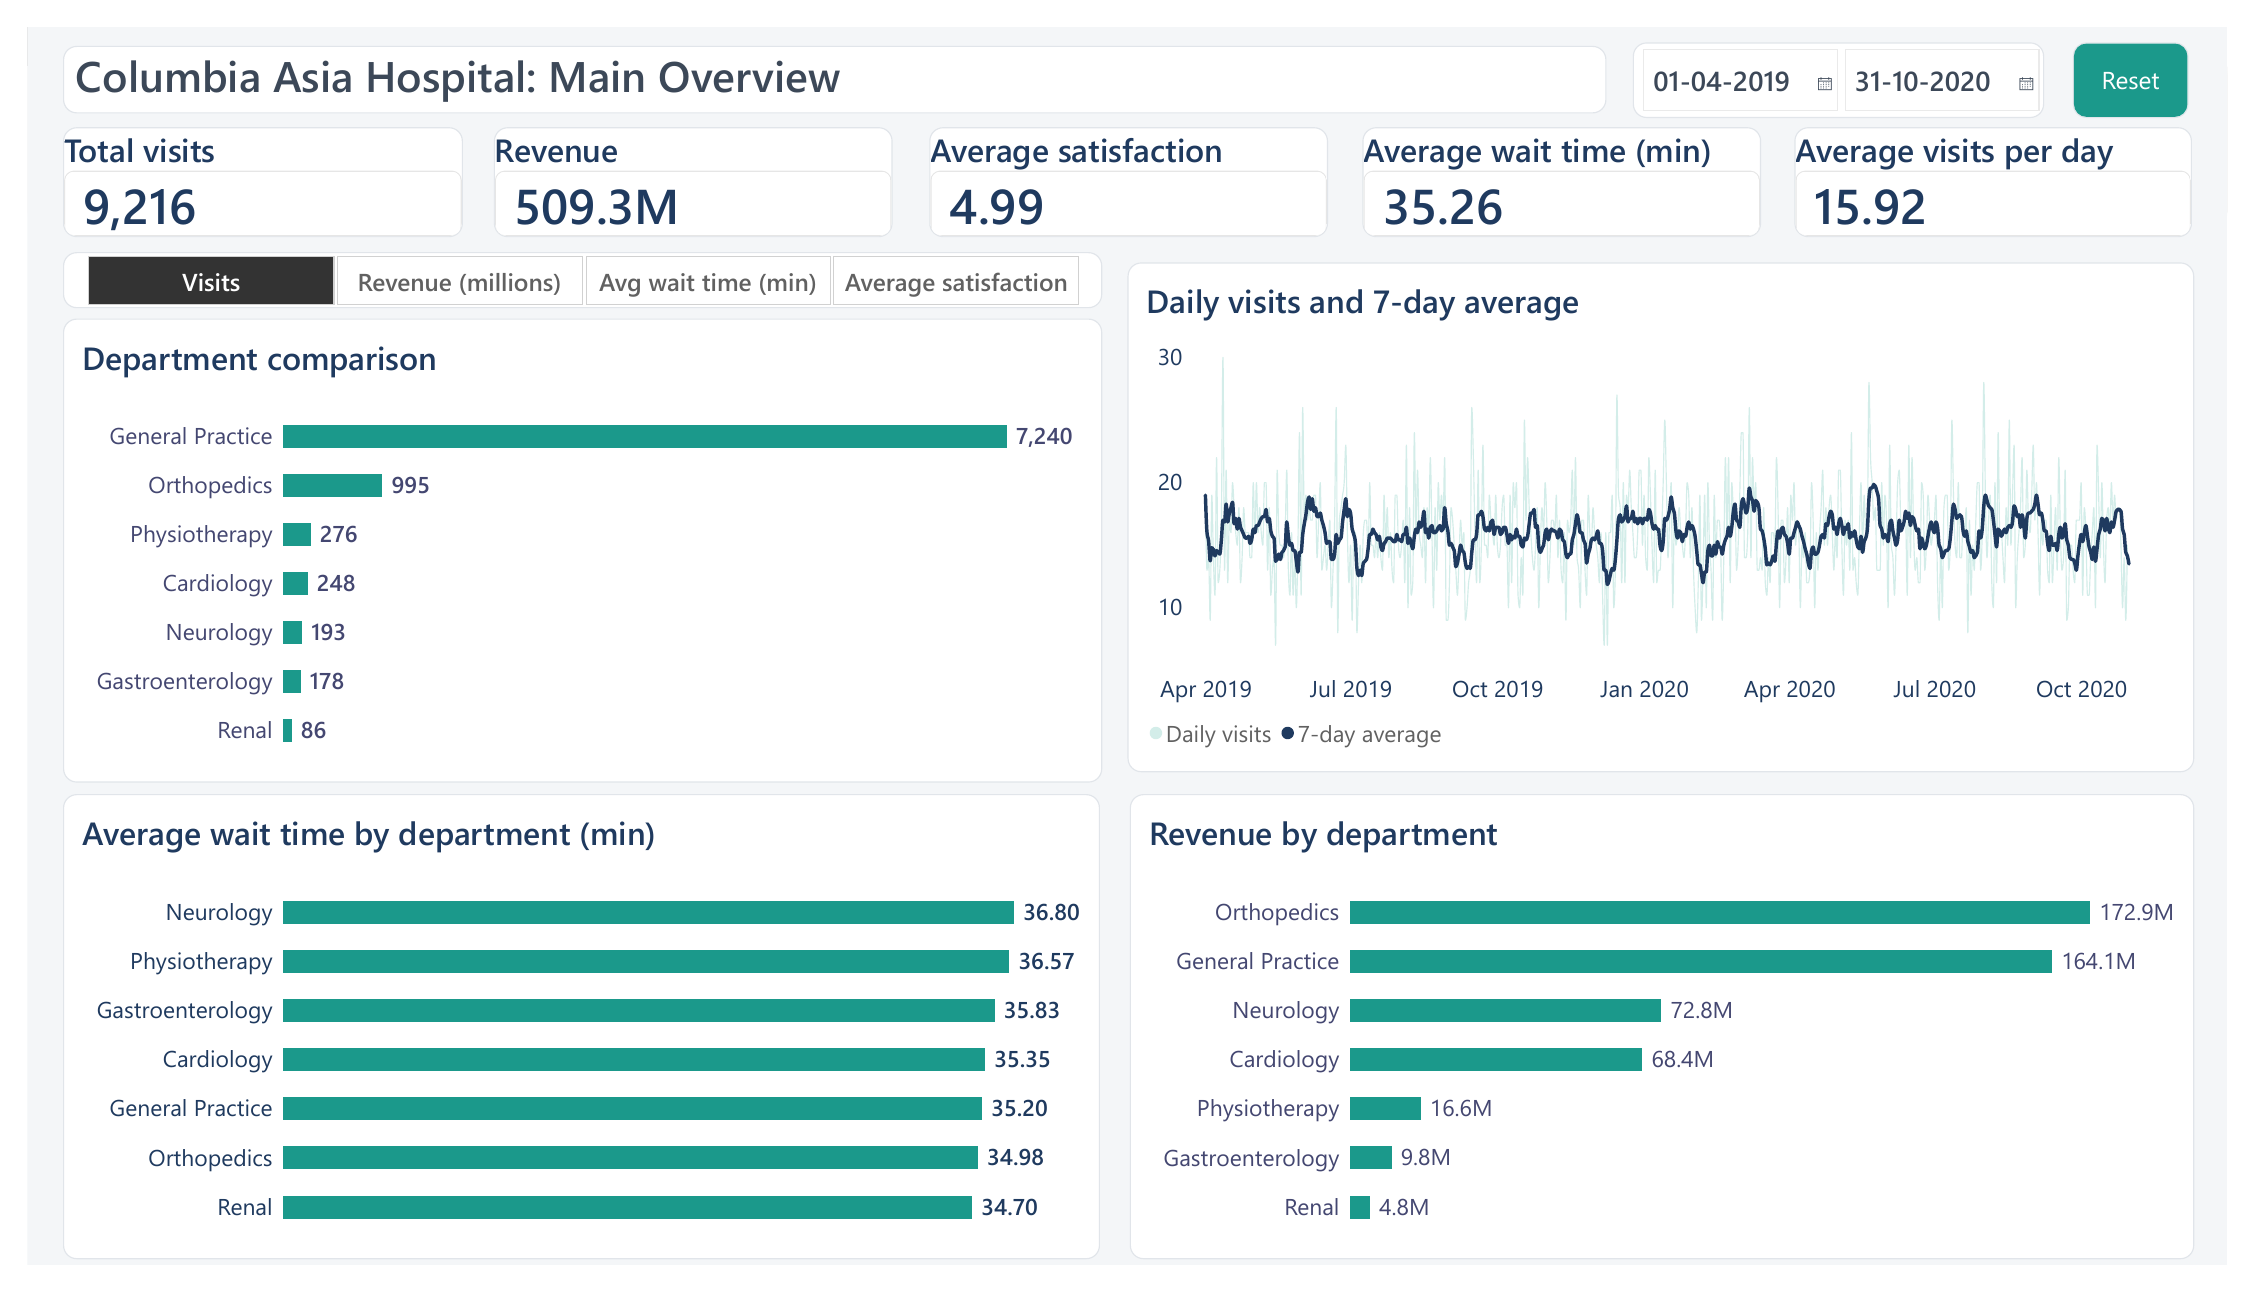

The dashboard page shown, as its layout file describes it:
{"tool":"powerbi","page":{"name":"Main","canvas":[1920,1080],"ordinal":0},"visuals":[{"type":"textbox","box":[31.5,15.7,1346.2,59.6],"z":0},{"type":"slicer","title":" Select dates","fields":{"Values":["date_table.Date"]},"box":[1400.7,13.5,359.7,65.2],"z":1000},{"type":"cardVisual","title":"Total visits","fields":{"Data":["hospital_data.total_visits"]},"box":[31.5,86.6,348.5,96.7],"z":2000},{"type":"cardVisual","title":"Revenue","fields":{"Data":["hospital_data.total_revenue"]},"box":[406.9,86.6,348.5,96.7],"z":3000},{"type":"cardVisual","title":"Average satisfaction","fields":{"Data":["hospital_data.avg_satisfaction"]},"box":[786.9,86.6,348.5,96],"z":4000},{"type":"cardVisual","title":"Average wait time (min)","fields":{"Data":["hospital_data.avg_wait_time"]},"box":[1164.6,86.6,348.5,96],"z":5000},{"type":"cardVisual","title":"Average visits per day","fields":{"Data":["hospital_data.avg_daily_visits"]},"box":[1542.3,86.6,346.2,96],"z":6000},{"type":"actionButton","box":[1785.1,13.5,101.2,65.2],"z":7000},{"type":"clusteredBarChart","title":"Department comparison","fields":{"Category":["hospital_data.department_referral"],"Y":["hospital_data.total_visits"]},"box":[31.5,254.1,906,405],"z":8000},{"type":"lineChart","title":"Daily visits and 7-day average","fields":{"Category":["date_table.Date"],"Y":["hospital_data.total_visits","hospital_data.visits_7day_avg"]},"box":[960,204.6,930.8,445.2],"z":9000},{"type":"clusteredBarChart","title":"Average wait time by department (min)","fields":{"Category":["hospital_data.department_referral"],"Y":["hospital_data.avg_wait_time"]},"box":[30.9,668.7,905,406.1],"z":10000},{"type":"clusteredBarChart","title":"Revenue by department","fields":{"Category":["hospital_data.department_referral"],"Y":["hospital_data.total_revenue"]},"box":[962.2,668.7,929.1,406.1],"z":11000},{"type":"slicer","fields":{"Values":["Department metric.Department metric"]},"box":[31.5,195.6,906,49.5],"z":12000}]}

Visuals, with their boxes in screenshot pixels (x1, y1, x2, y2), scaled from the page's 1920x1080 canvas onto the 2255x1293 screenshot:
textbox: 37 19 1618 90
" Select dates" slicer: 1645 16 2068 94
"Total visits" cardVisual: 37 104 446 219
"Revenue" cardVisual: 478 104 887 219
"Average satisfaction" cardVisual: 924 104 1334 219
"Average wait time (min)" cardVisual: 1368 104 1777 219
"Average visits per day" cardVisual: 1811 104 2218 219
actionButton: 2097 16 2215 94
"Department comparison" clusteredBarChart: 37 304 1101 789
"Daily visits and 7-day average" lineChart: 1128 245 2221 778
"Average wait time by department (min)" clusteredBarChart: 36 801 1099 1287
"Revenue by department" clusteredBarChart: 1130 801 2221 1287
slicer - Department metric.Department metric: 37 234 1101 293
